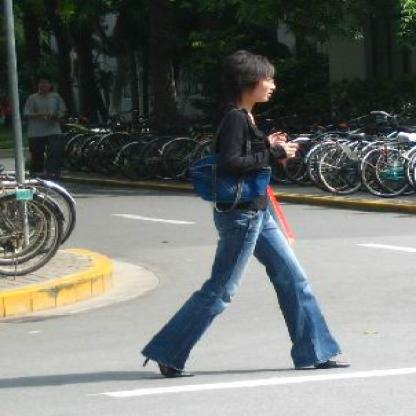person: (136, 45, 350, 378)
